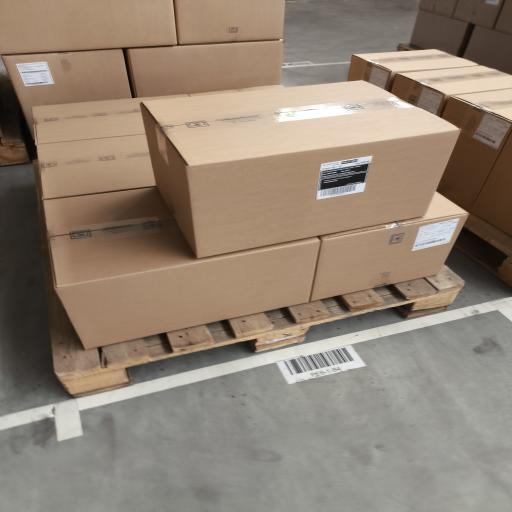pallet: (35, 161, 464, 396), (48, 267, 463, 396), (455, 214, 511, 286), (0, 70, 29, 165), (397, 44, 423, 51)
